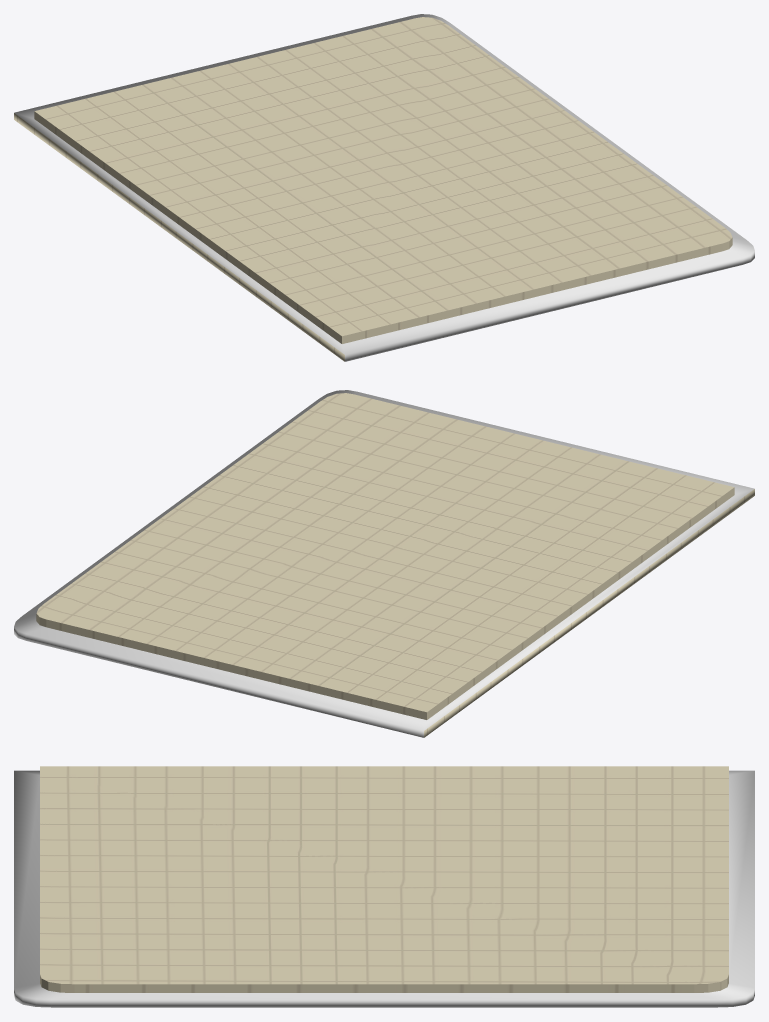
File: ContraCapaCaderno.fbx
3 renders of one model, top to bottom at view 1: azimuth 30°, elevation 25°; view 2: azimuth 150°, elevation 25°; view 3: azimuth 270°, elevation 25°, orthographic. The views are drawn at different scales.
Visible parts, largest first — view 1: Plane.005; view 2: Plane.005; view 3: Plane.005.
Part boxes in pixels (box(x1,y1,x2,y2)): Plane.005: box(14, 14, 754, 361); Plane.005: box(14, 390, 754, 737); Plane.005: box(14, 766, 754, 1007).
Bounding box in the file's own units: 136 × 4.64 × 186.
